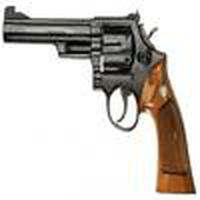gun: (3, 8, 200, 174)
